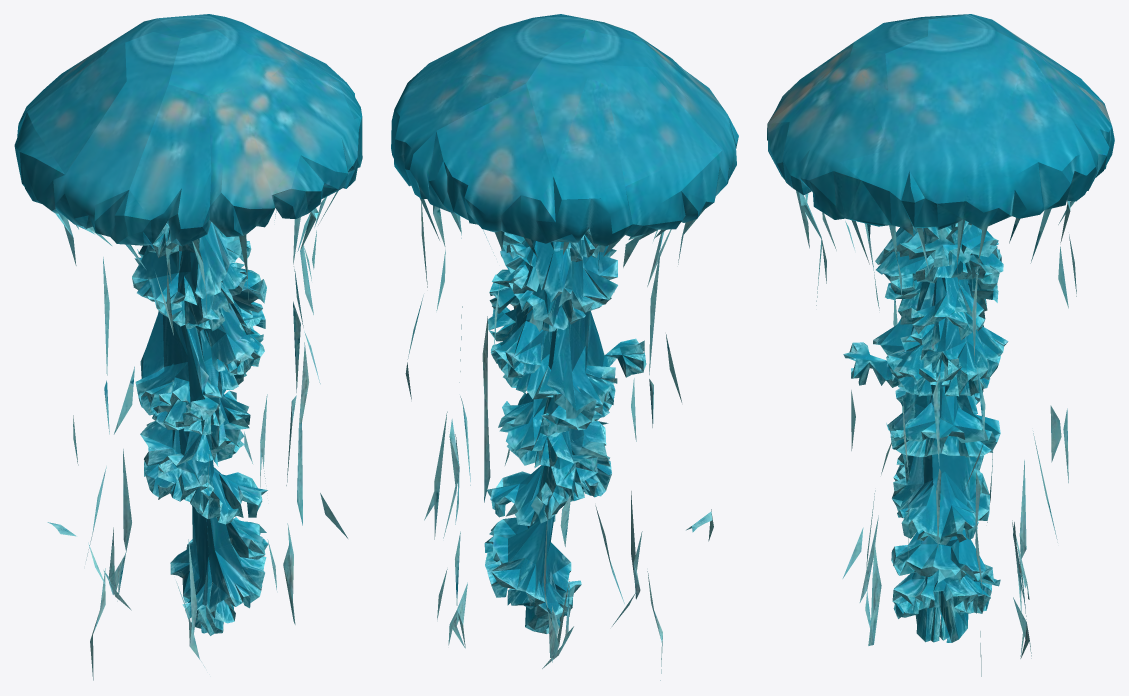
Rendered from medusa.fbx.
3 renders of one model, left to right at view 1: azimuth 30°, elevation 25°; view 2: azimuth 150°, elevation 25°; view 3: azimuth 270°, elevation 25°, orthographic.
Parts seen in each view (by area): view 1: medusa; view 2: medusa; view 3: medusa.
Part boxes in pixels (x1,y1,x2,y2): medusa: [14, 14, 362, 680]; medusa: [391, 14, 738, 680]; medusa: [767, 14, 1114, 676].
Bounding box in the file's own units: 0.6087 × 1.2 × 0.6018.
1 material, 1 textured.
